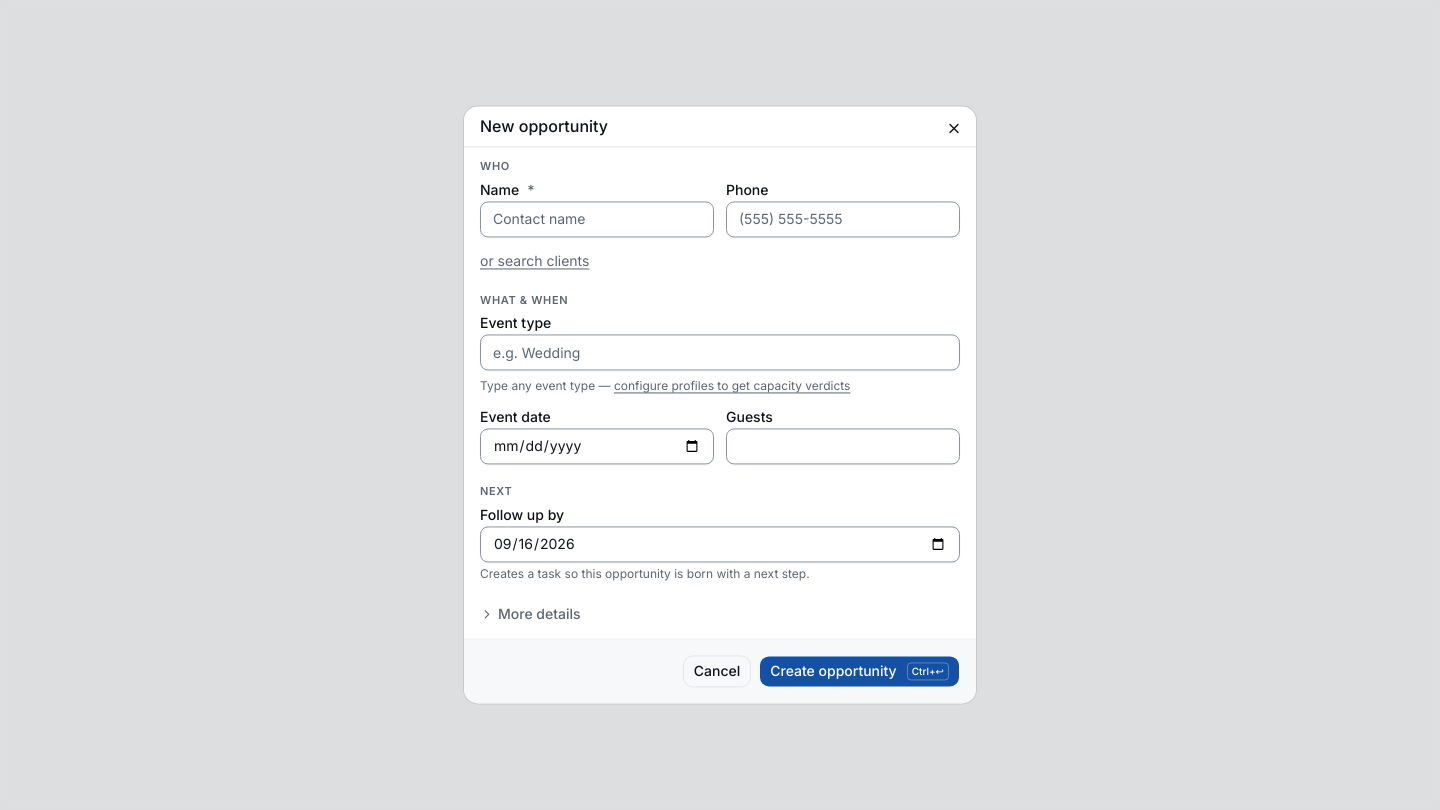
Scenario: NewOpportunityForm › caller recognition › recognizes an exactly matching name but never auto-links
Type "sam ortiz" into the field labelled "Name".
click(597, 219); type("sam ortiz")  # box [480,201,714,237]
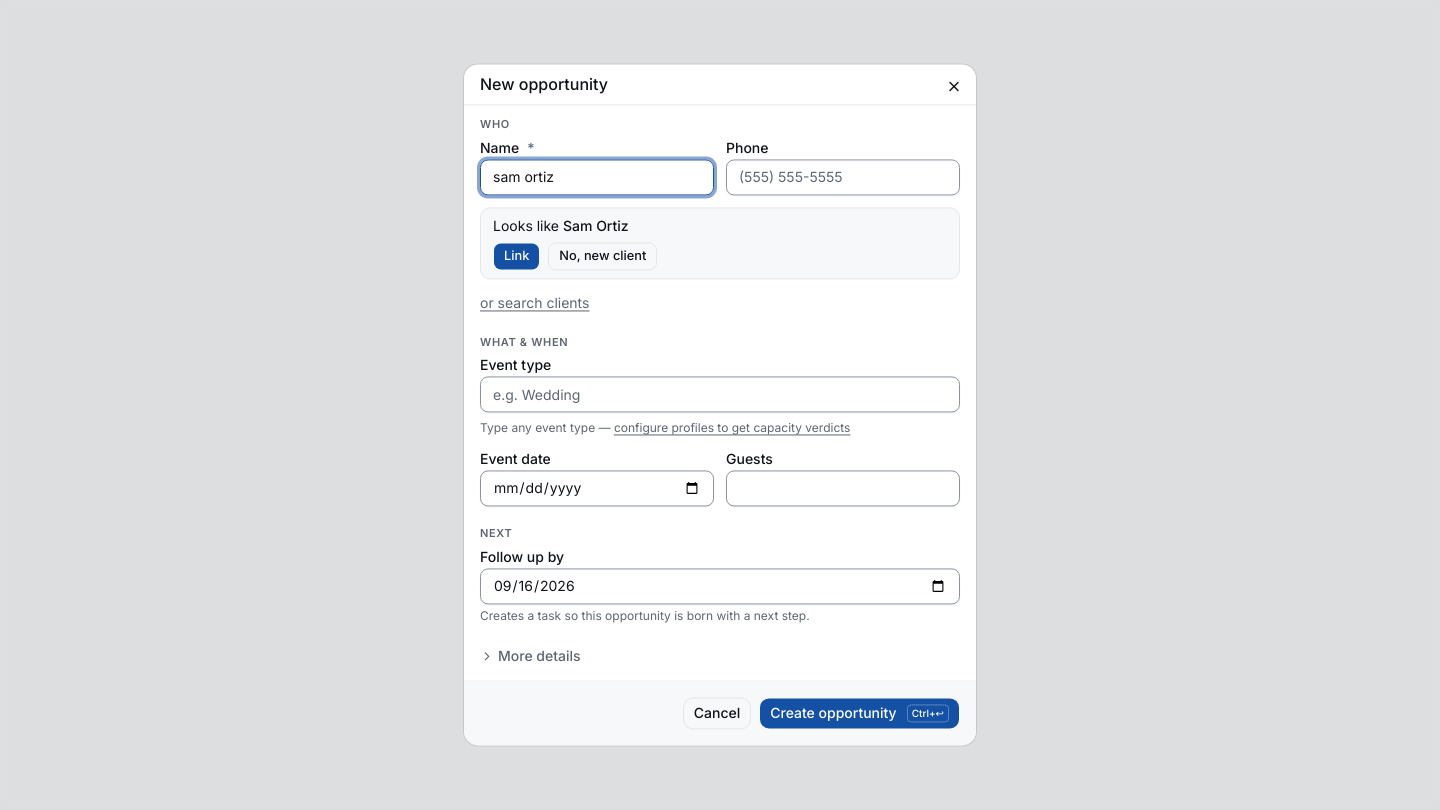
Expected: the text "Looks like Sam Ortiz" is shown, [493,217,629,234]
